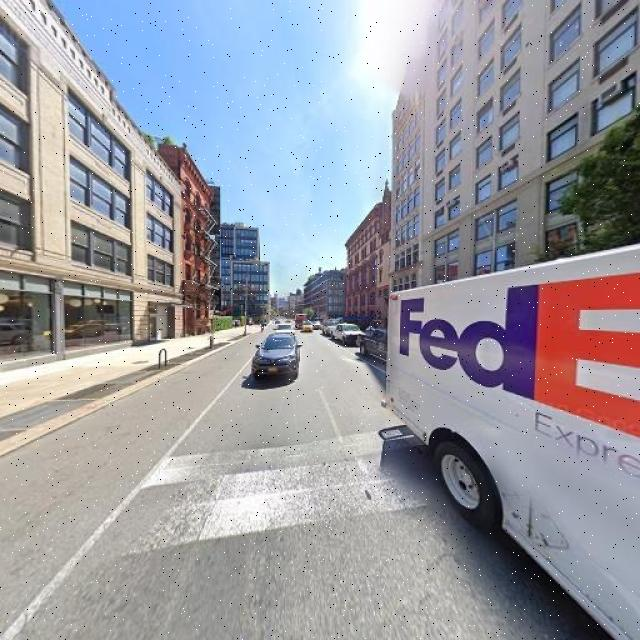Building: (427, 1, 640, 395), (1, 1, 178, 379), (397, 55, 422, 348), (182, 144, 217, 340), (352, 190, 394, 342)
